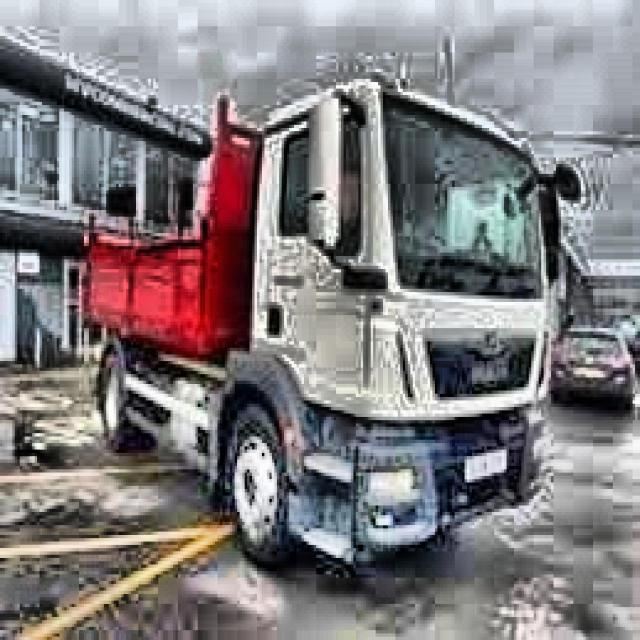dump_truck: (81, 73, 578, 572)
